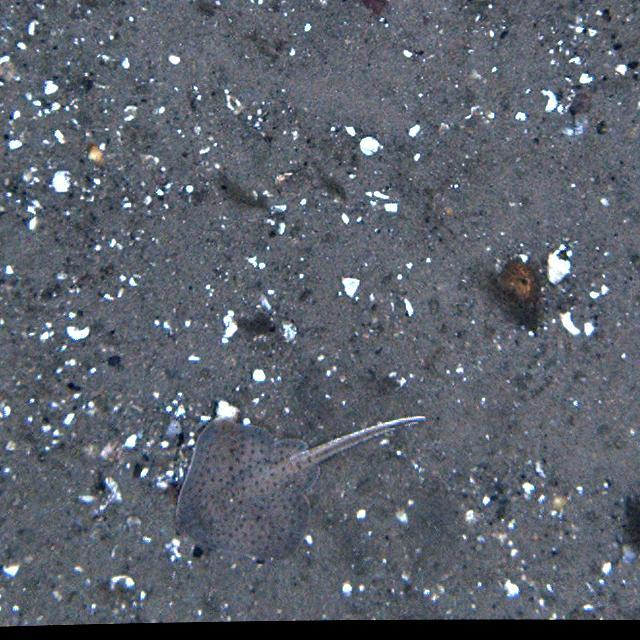skate: (174, 399, 424, 564)
